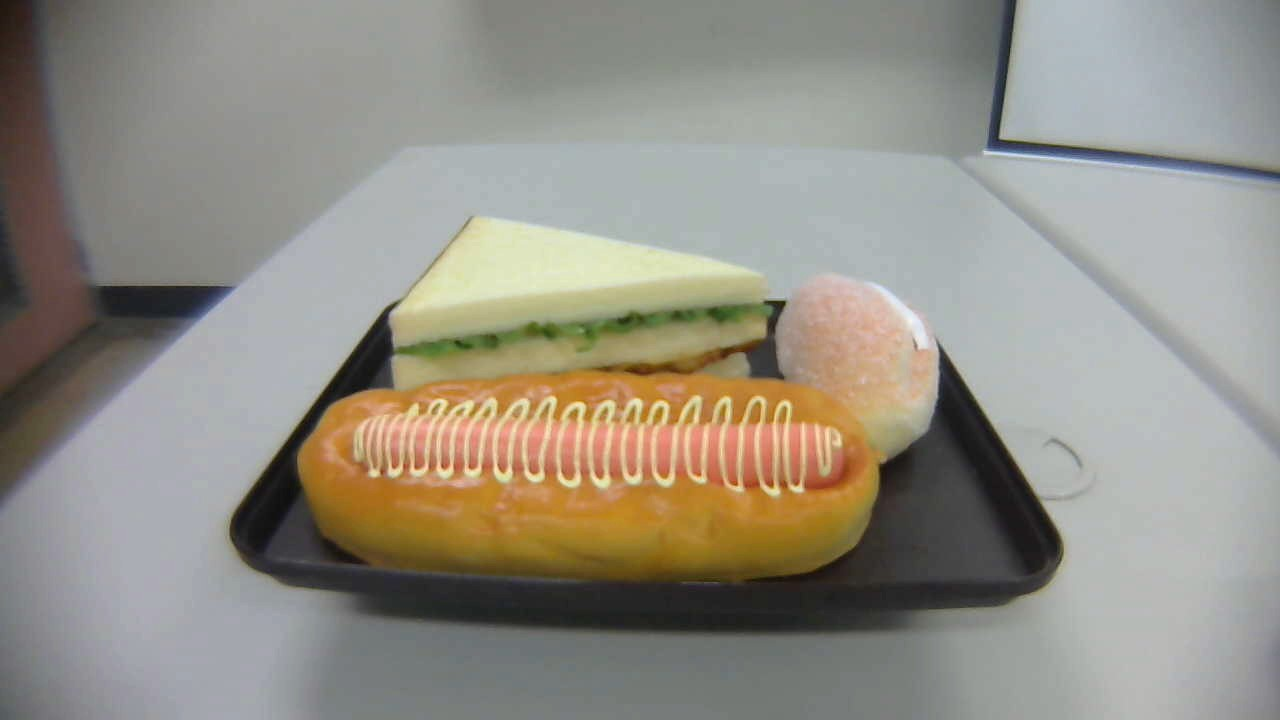coconut: (775, 272, 938, 466)
hot dog: (295, 374, 882, 591)
sandwich: (386, 214, 771, 404)
